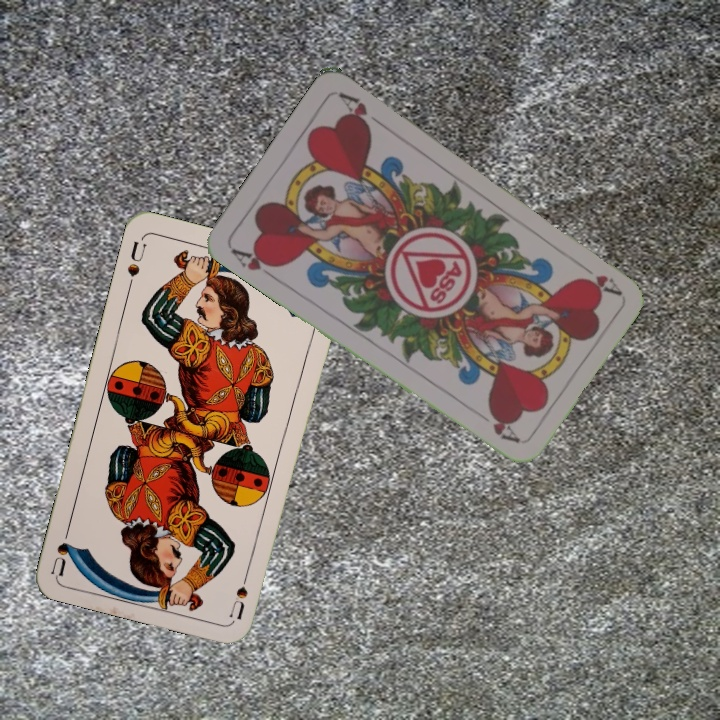HA: (227, 244, 281, 282), (579, 270, 623, 298)
SU: (225, 562, 253, 621), (123, 235, 149, 293)
